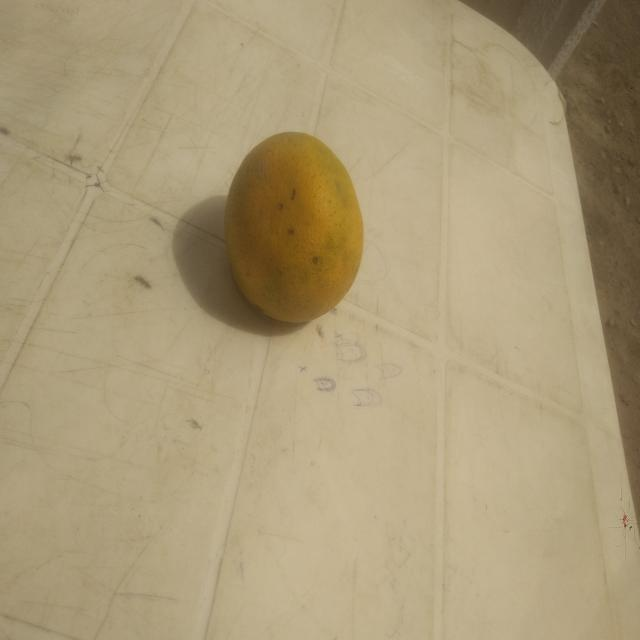agrume: (220, 133, 372, 326)
